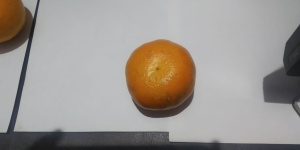BAD: (122, 36, 200, 118)
